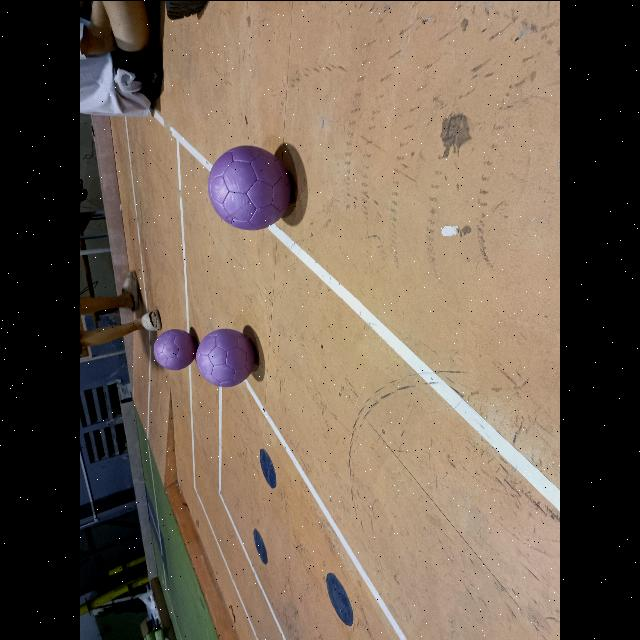P: (208, 145, 290, 229), (196, 328, 254, 386), (154, 329, 196, 369)
